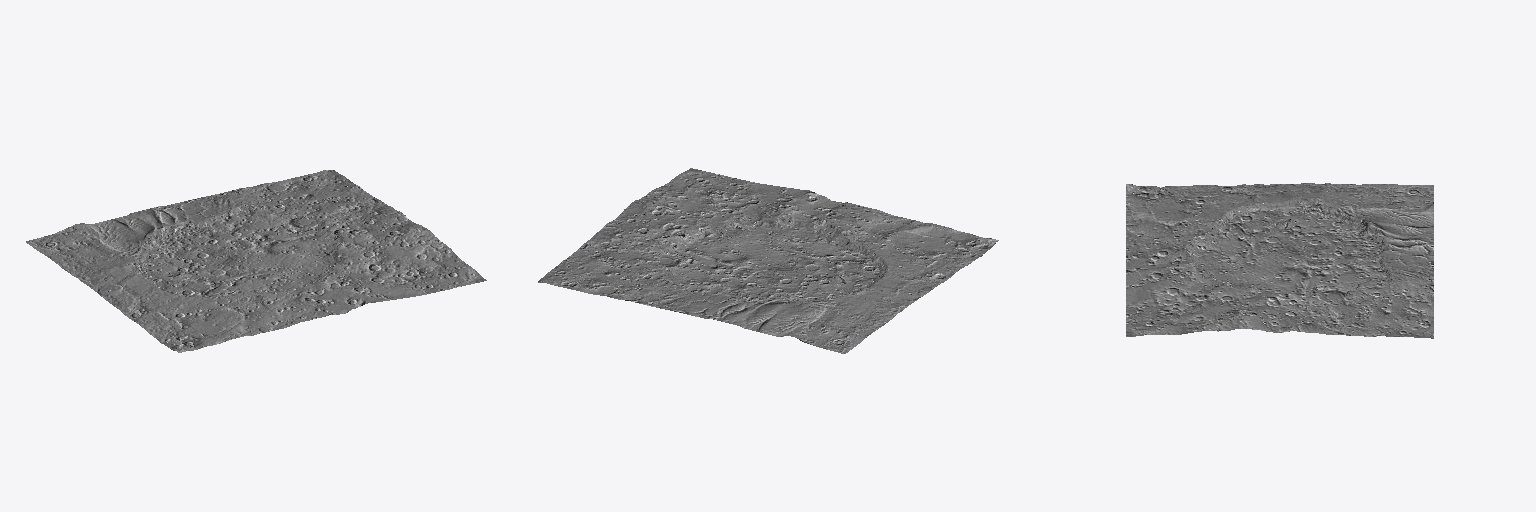
3 views of the same model, side by side, from view 1: azimuth 30°, elevation 25°; view 2: azimuth 150°, elevation 25°; view 3: azimuth 270°, elevation 25° (orthographic).
Visible parts, largest first — view 1: Moonscape; view 2: Moonscape; view 3: Moonscape.
Part boxes in pixels (x1,y1,x2,y2): Moonscape: (26,170,486,352); Moonscape: (538,168,998,353); Moonscape: (1126,183,1433,338).
Bounding box in the file's own units: 60.41 × 2.78 × 52.3.
2 materials, 1 textured.